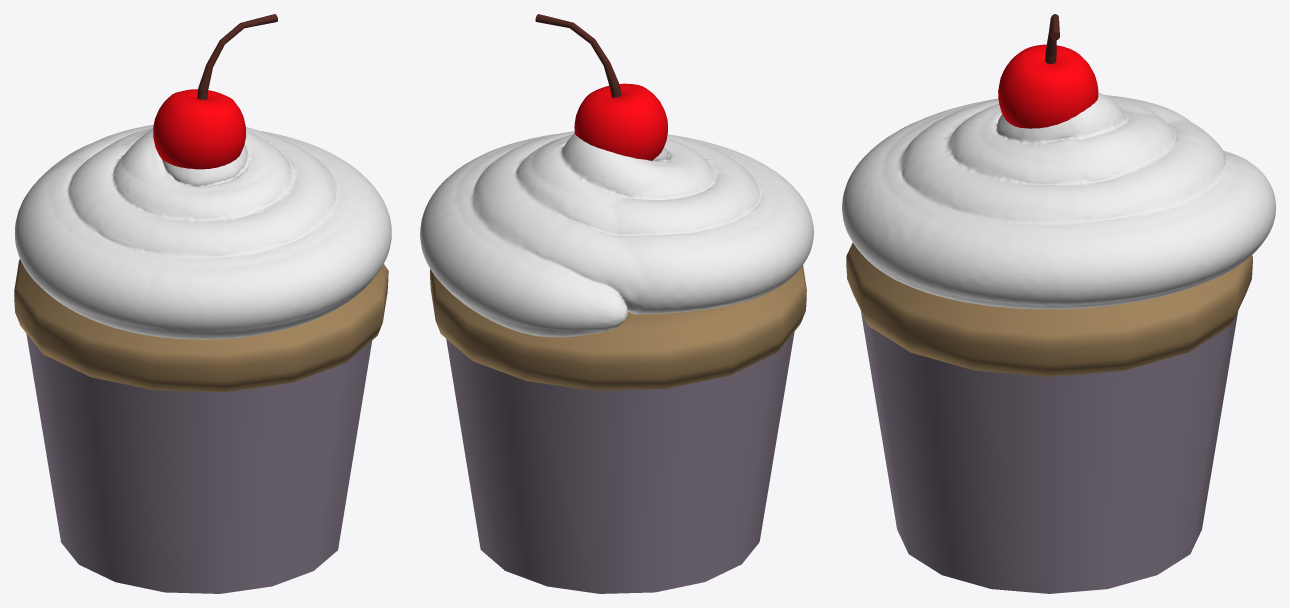
File: Cupcake_Cherry.fbx
3 views of the same model, side by side, from view 1: azimuth 30°, elevation 25°; view 2: azimuth 150°, elevation 25°; view 3: azimuth 270°, elevation 25° (orthographic). The views are drawn at different scales.
Parts seen in each view (by area): view 1: Cylinder, NurbsPath, Cylinder.001, Sphere, Cylinder.002; view 2: Cylinder, NurbsPath, Cylinder.001, Sphere, Cylinder.002; view 3: Cylinder, NurbsPath, Cylinder.001, Sphere.
Boxes of the visible parts, x1,y1,x2,y2 form: Cylinder: (26,333,372,593); NurbsPath: (15,125,391,339); Cylinder.001: (14,259,388,392); Sphere: (153,89,245,169); Cylinder.002: (197,14,277,99); Cylinder: (446,332,794,593); NurbsPath: (420,131,813,337); Cylinder.001: (430,265,806,390); Sphere: (574,83,667,160); Cylinder.002: (535,14,621,97); Cylinder: (860,310,1238,593); NurbsPath: (842,92,1275,309); Cylinder.001: (846,242,1252,376); Sphere: (998,44,1098,128).
Size of the model in its own units: 216 by 310 by 227.
